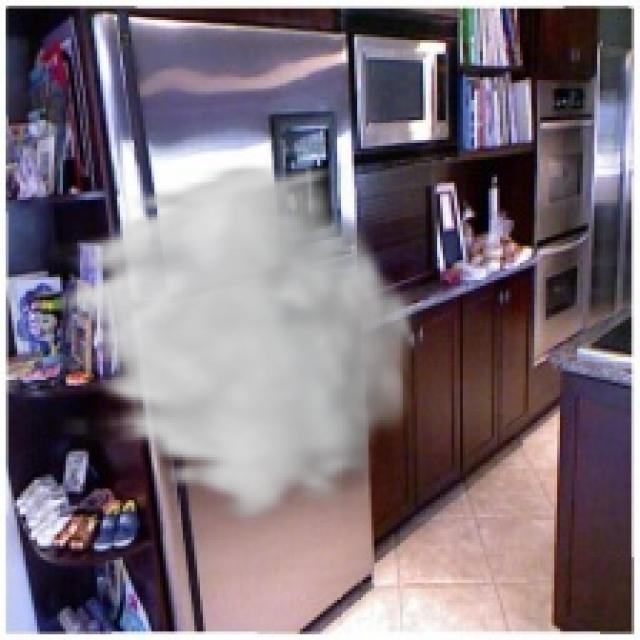smoke: (46, 160, 423, 526)
